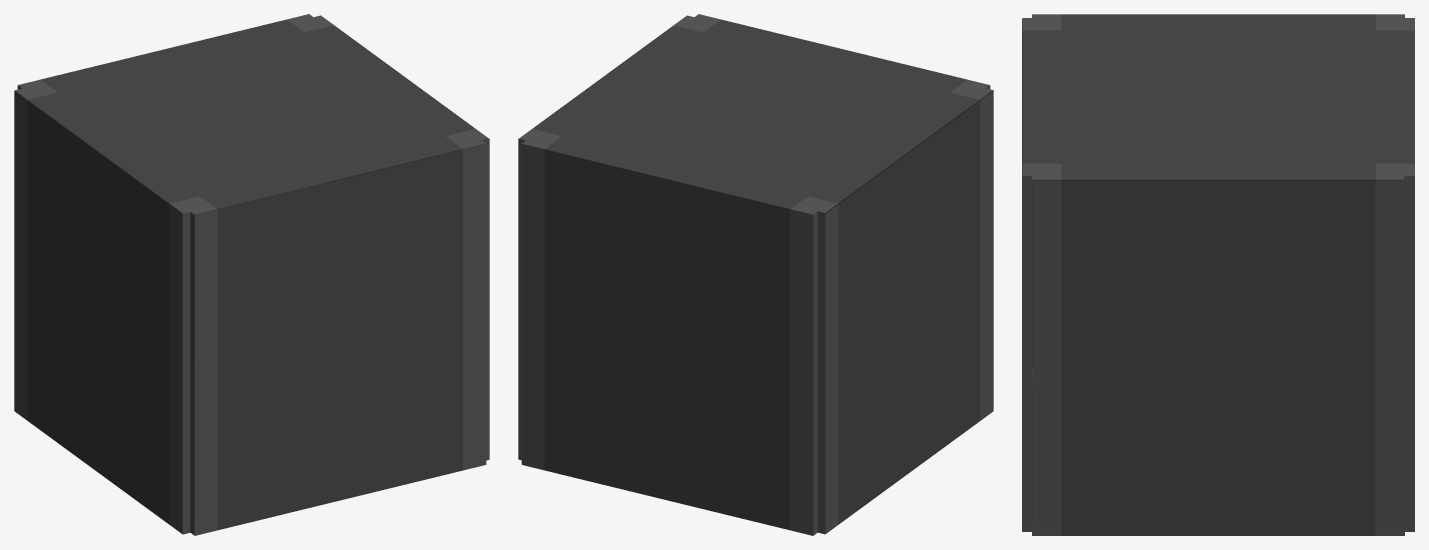
The model's file is CastleWall+Connection.fbx.
The picture shows the model from 3 angles, left to right: view 1: azimuth 30°, elevation 25°; view 2: azimuth 150°, elevation 25°; view 3: azimuth 270°, elevation 25°; orthographic projection. The views are drawn at different scales.
Parts seen in each view (by area): view 1: Castle wall + connection; view 2: Castle wall + connection; view 3: Castle wall + connection.
Boxes of the visible parts, bbox=[...] form: Castle wall + connection: bbox=[14, 14, 489, 535]; Castle wall + connection: bbox=[518, 14, 993, 535]; Castle wall + connection: bbox=[1022, 14, 1414, 535].
Size of the model in its own units: 400 by 400 by 400.
